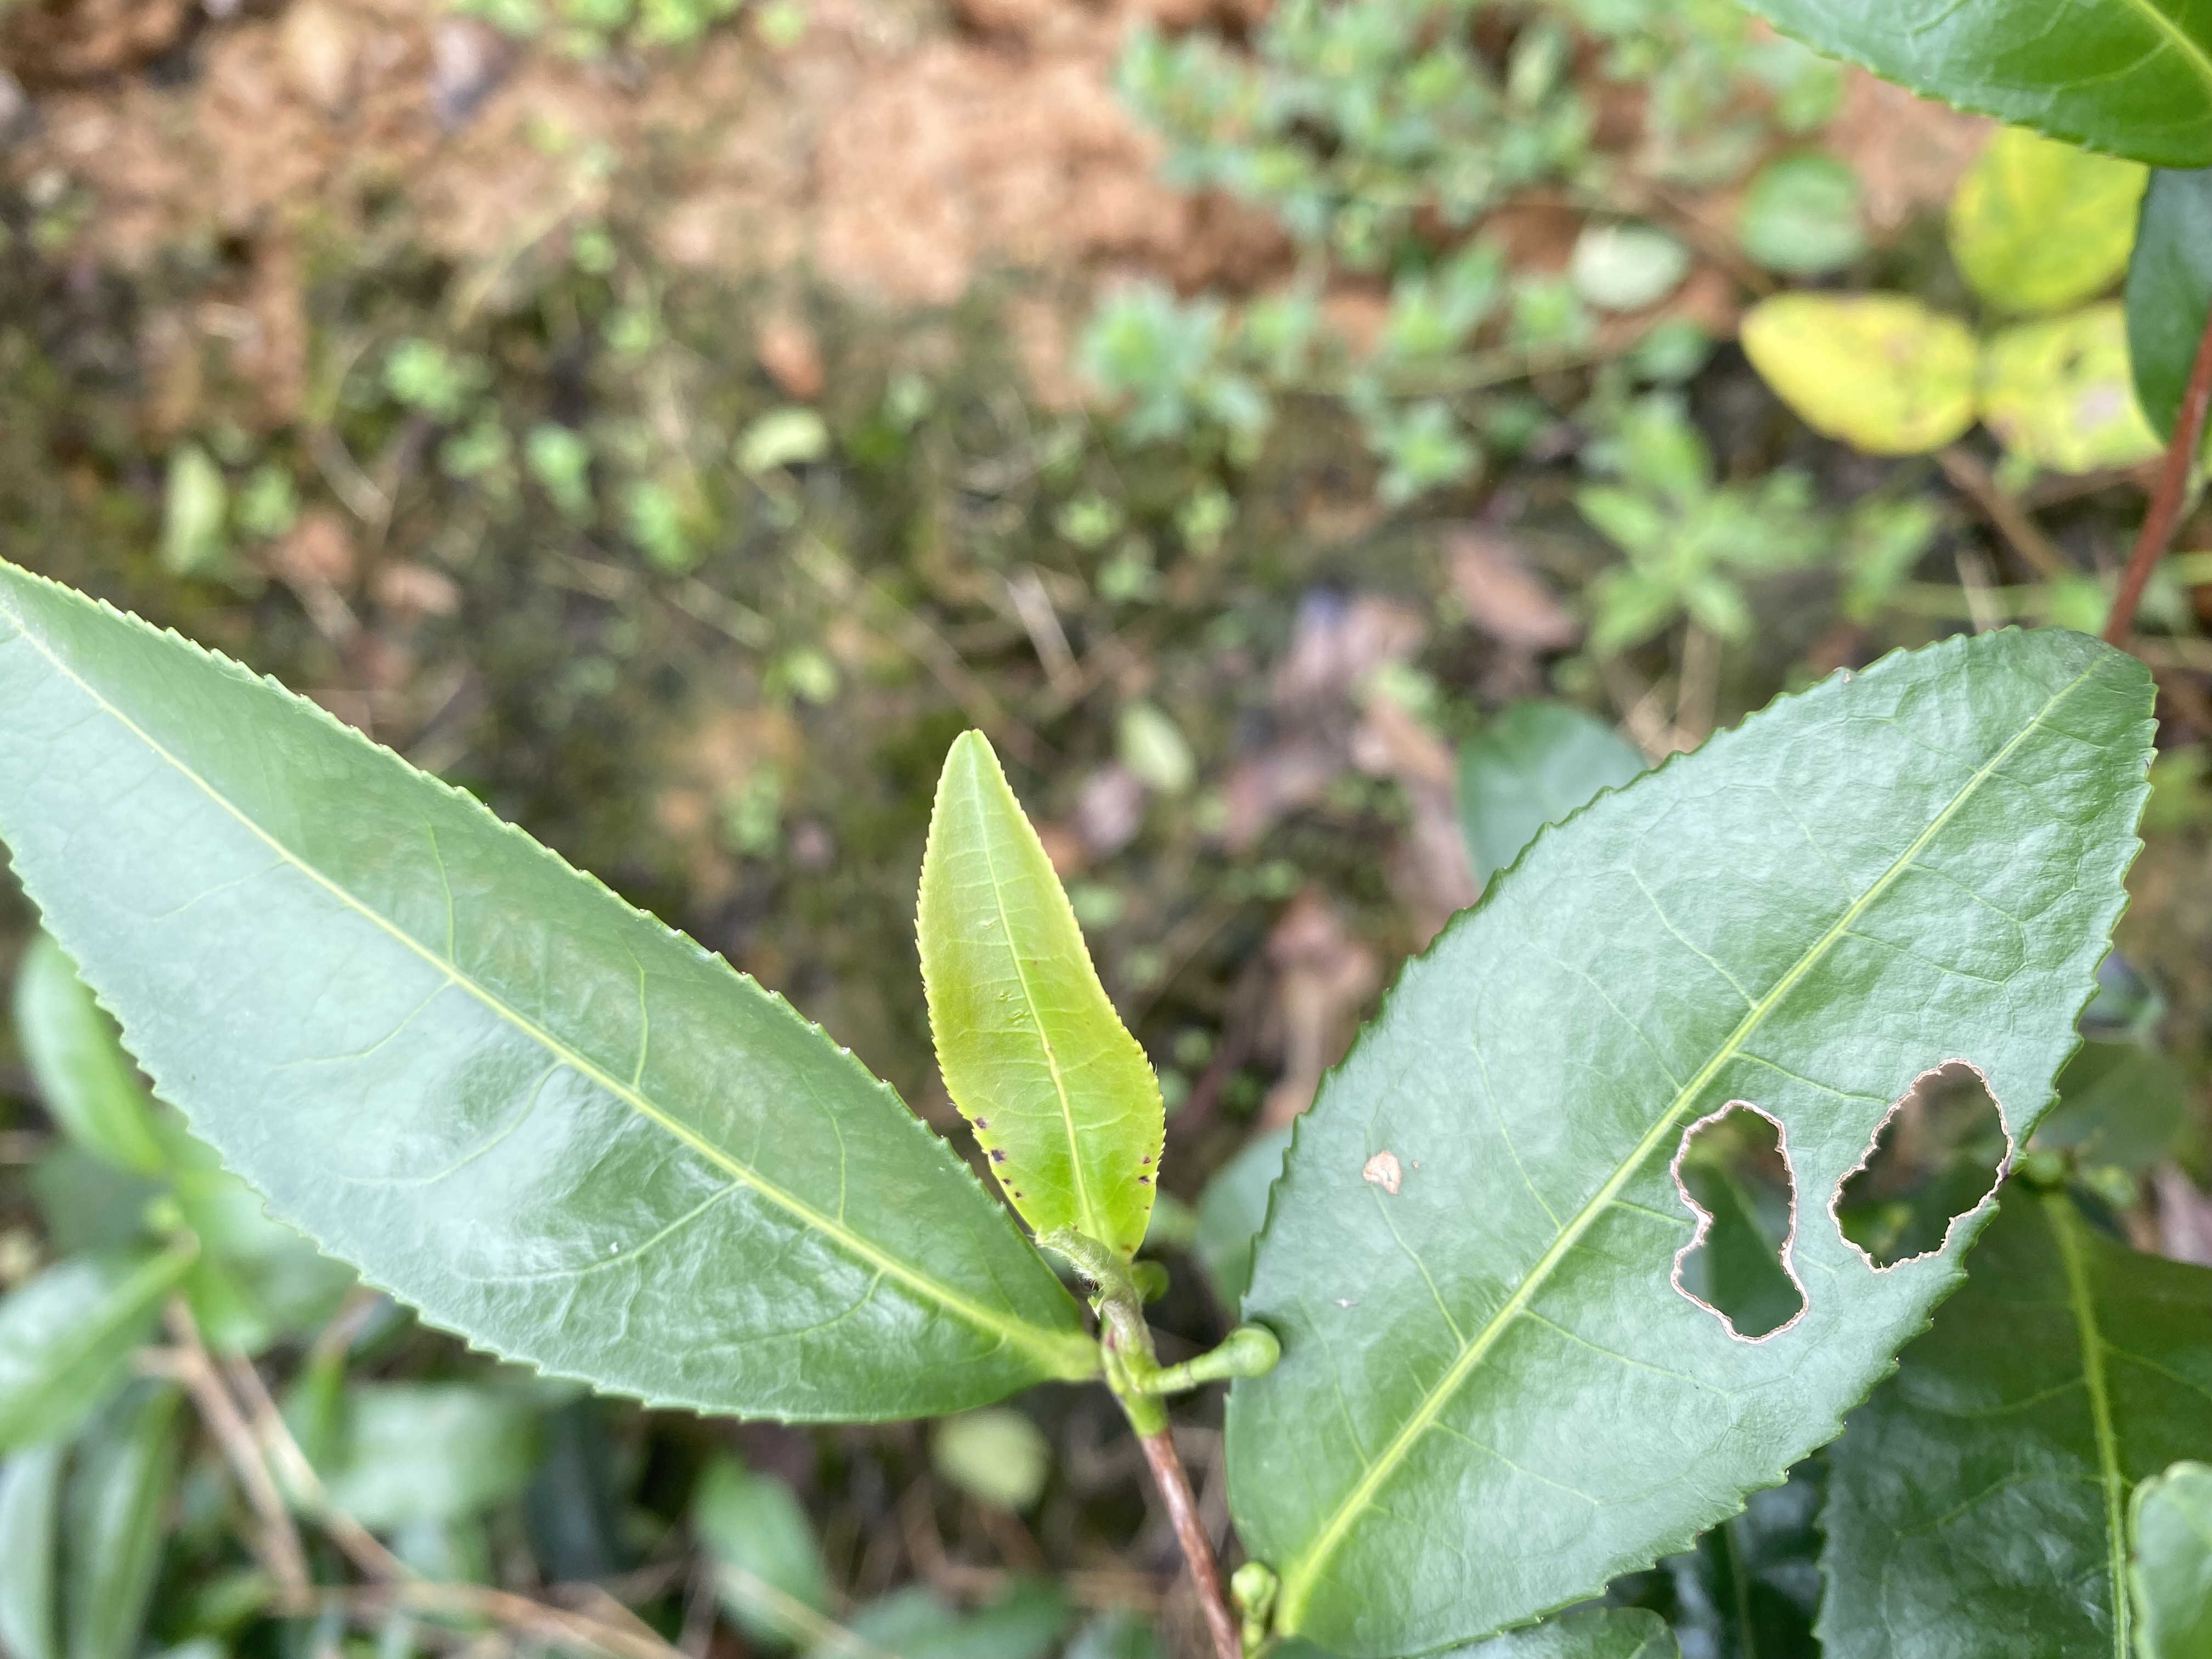chihuo_high: (1231, 624, 2165, 1656)
healthy: (0, 558, 1083, 1431)
tanju_low: (911, 725, 1167, 1260)
